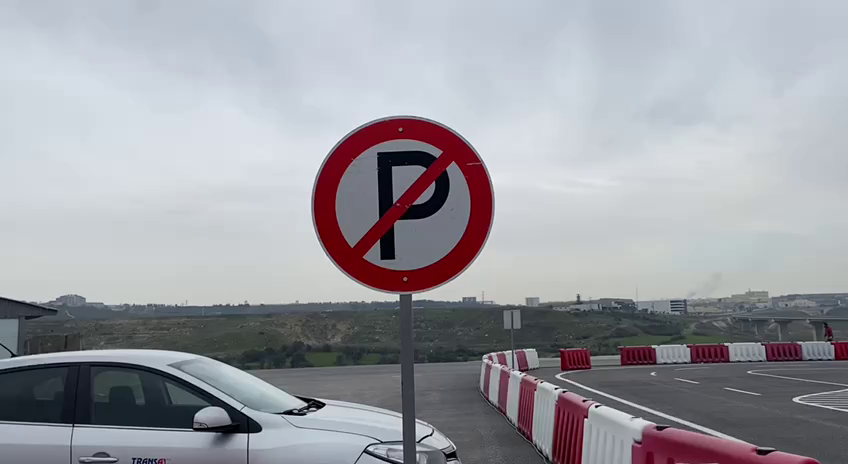noparking: (308, 113, 498, 298)
